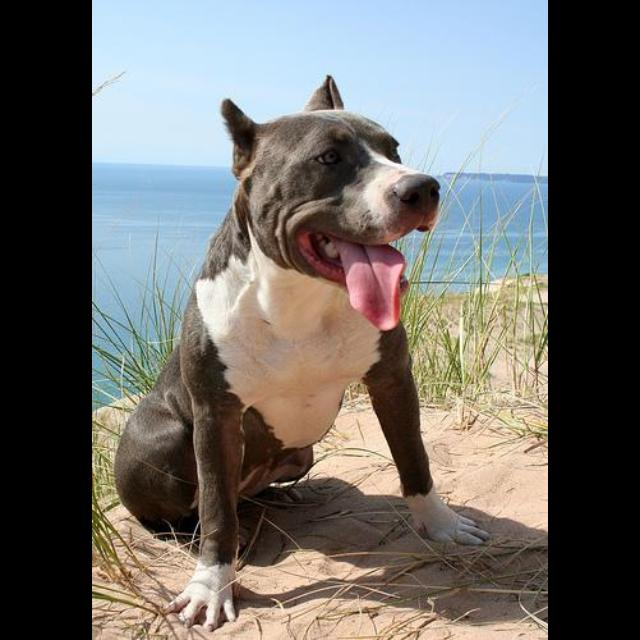amstaff: (113, 75, 494, 634)
